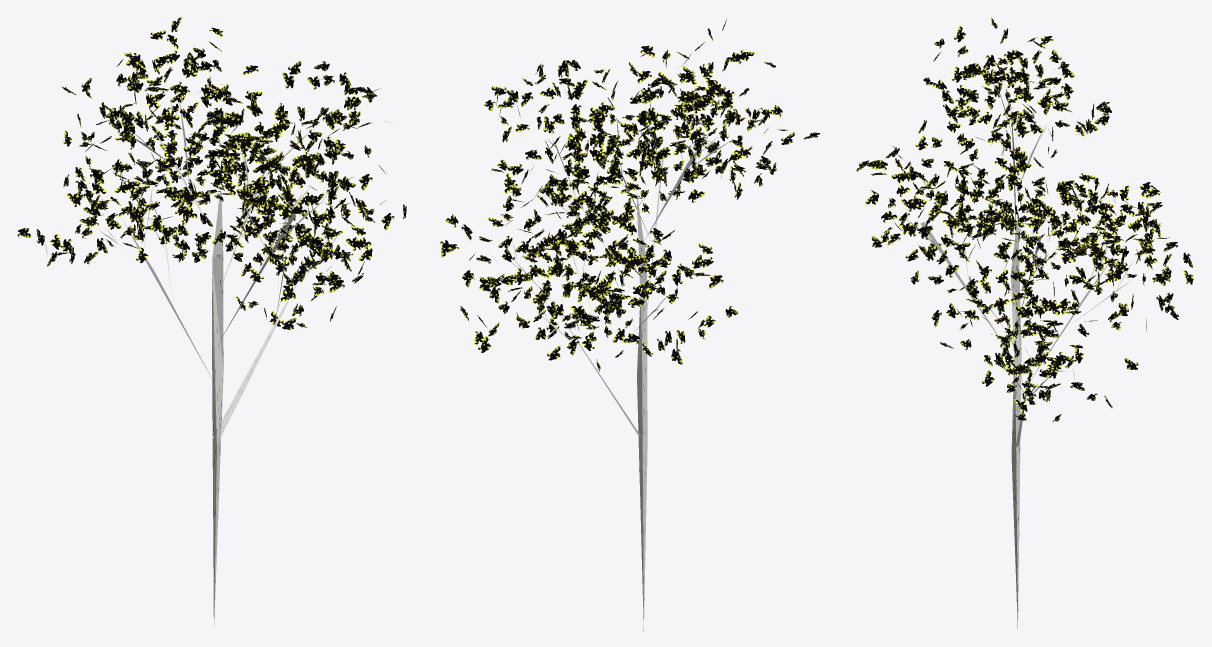
Rendered from birch_pale_v01_LOD2.fbx.
The picture shows the model from 3 angles, left to right: view 1: azimuth 30°, elevation 25°; view 2: azimuth 150°, elevation 25°; view 3: azimuth 270°, elevation 25°; orthographic projection. The views are drawn at different scales.
Parts seen in each view (by area): view 1: birch_pale_v01_LOD2; view 2: birch_pale_v01_LOD2; view 3: birch_pale_v01_LOD2.
Boxes of the visible parts, bbox=[...] form: birch_pale_v01_LOD2: bbox=[17, 17, 406, 626]; birch_pale_v01_LOD2: bbox=[439, 19, 819, 631]; birch_pale_v01_LOD2: bbox=[856, 17, 1193, 628].
Bounding box in the file's own units: 899 × 807 × 1508.
Materials: 2 (2 with a texture image).
